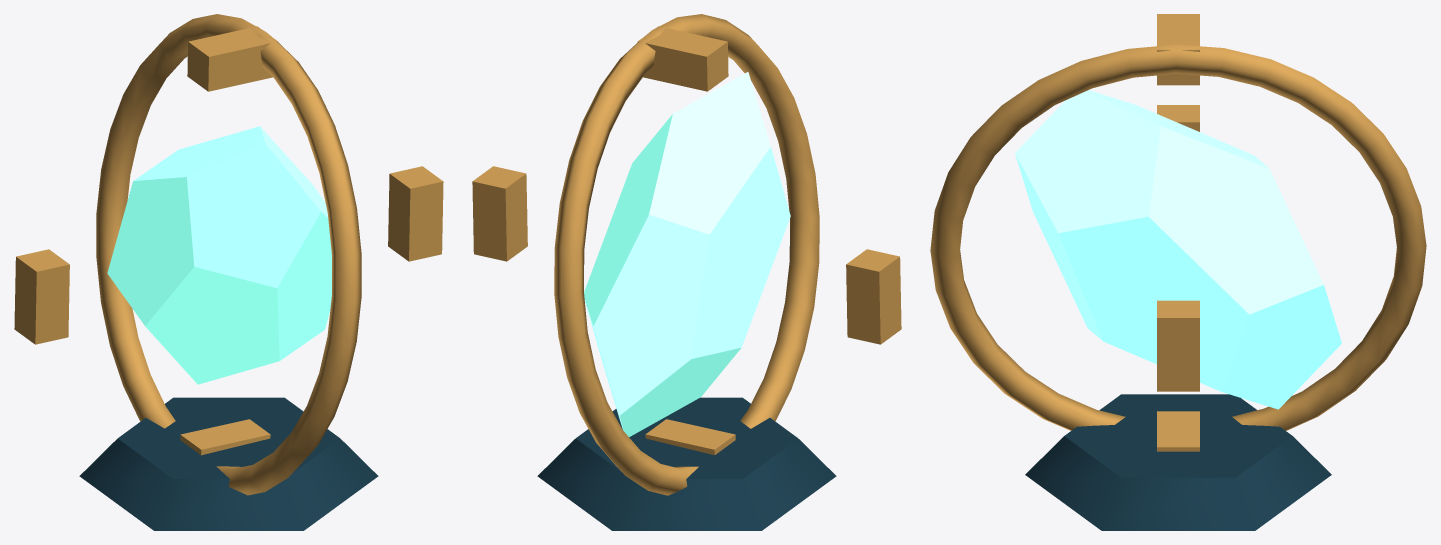
The model's file is relic-06.glb.
3 renders of one model, left to right at view 1: azimuth 30°, elevation 25°; view 2: azimuth 150°, elevation 25°; view 3: azimuth 270°, elevation 25°, orthographic. The views are drawn at different scales.
Visible parts, largest first — view 1: aged-brass-merged, aether-glass-merged, deep-basalt-merged; view 2: aether-glass-merged, aged-brass-merged, deep-basalt-merged; view 3: aether-glass-merged, aged-brass-merged, deep-basalt-merged.
Boxes of the visible parts, <box> form: aged-brass-merged: <box>14,14,443,495</box>; aether-glass-merged: <box>107,126,331,384</box>; deep-basalt-merged: <box>79,397,378,530</box>; aether-glass-merged: <box>584,72,790,436</box>; aged-brass-merged: <box>472,14,901,495</box>; deep-basalt-merged: <box>537,397,836,530</box>; aether-glass-merged: <box>1015,90,1341,409</box>; aged-brass-merged: <box>930,14,1426,451</box>; deep-basalt-merged: <box>1025,394,1331,530</box>.
Size of the model in its own units: 1.35 by 1.38 by 1.39.
